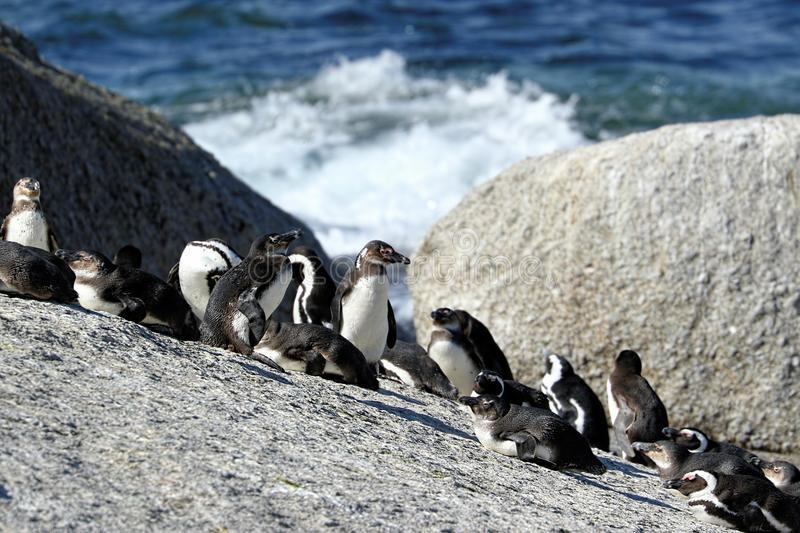Penguin: (633, 441, 799, 532), (56, 251, 198, 340), (200, 230, 301, 354), (459, 394, 605, 474), (0, 177, 76, 302), (333, 241, 409, 364), (255, 317, 379, 390), (664, 470, 798, 531), (428, 308, 511, 394), (606, 350, 668, 463), (166, 238, 242, 327), (541, 355, 609, 451), (380, 339, 461, 400), (289, 245, 335, 325), (474, 369, 549, 410), (663, 427, 756, 459), (746, 456, 799, 497)
